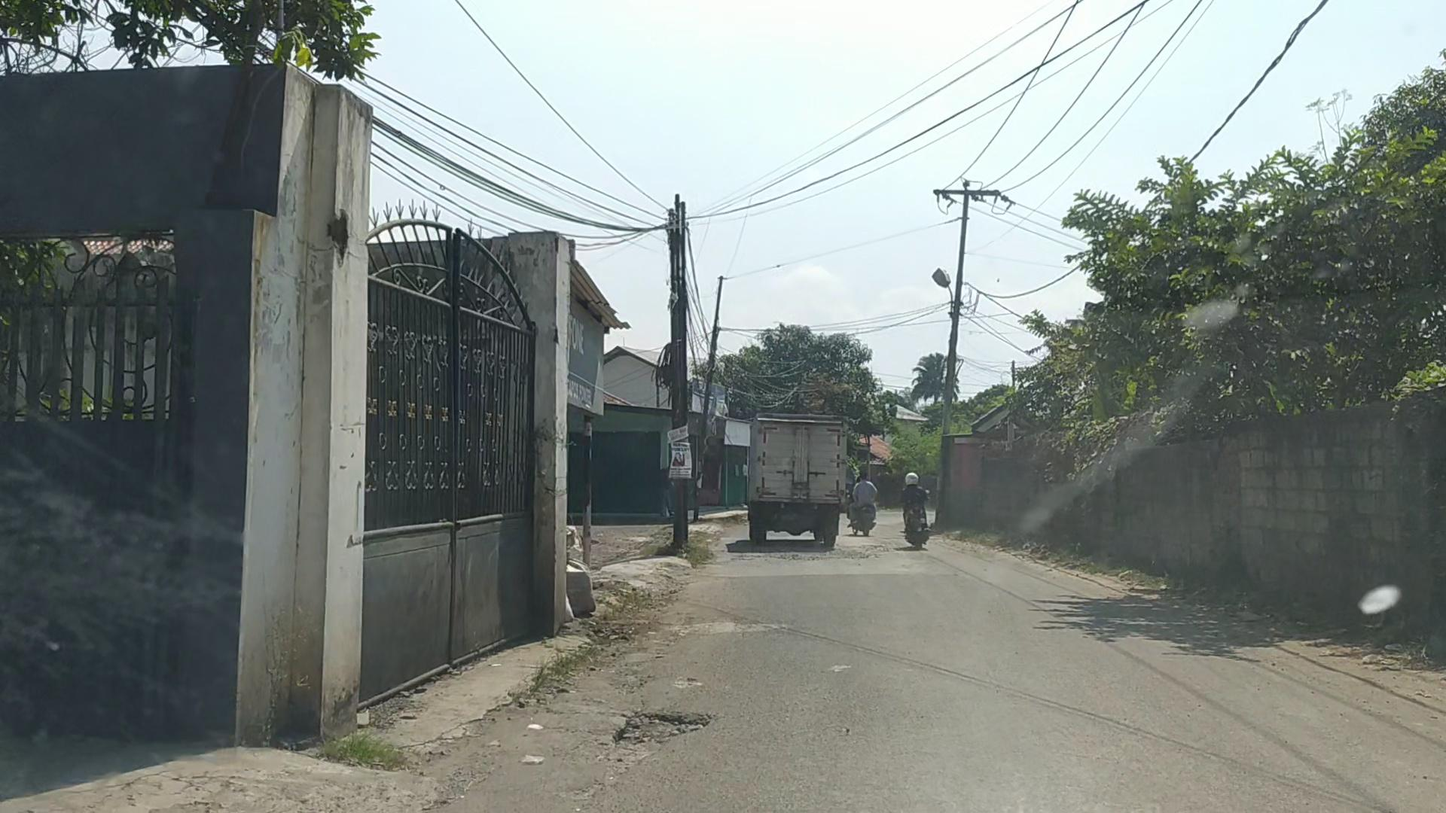pothole: (609, 712, 709, 750)
